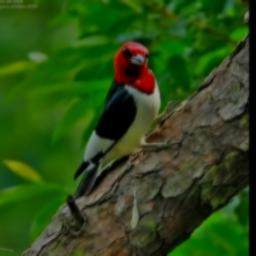Woodpecker: (67, 40, 177, 198)
